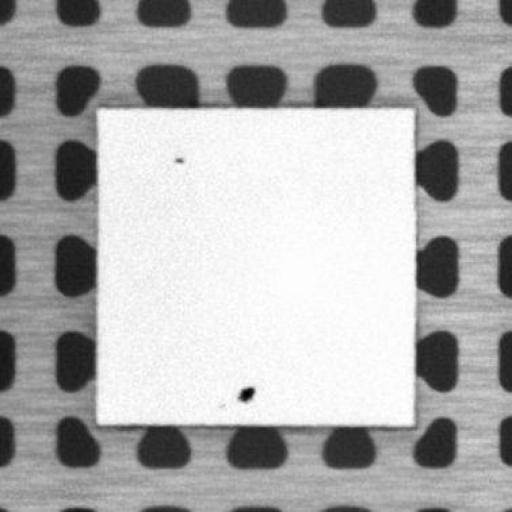DIE_INK: (234, 380, 256, 404), (172, 154, 184, 165)
